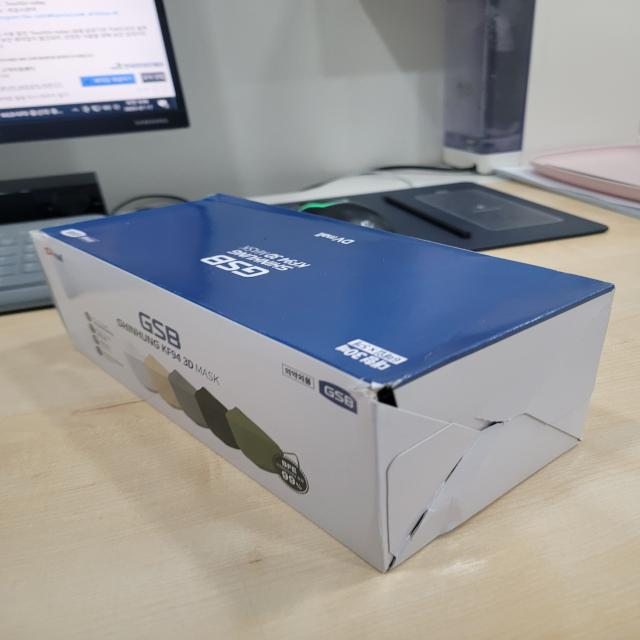mask: (17, 190, 616, 579)
